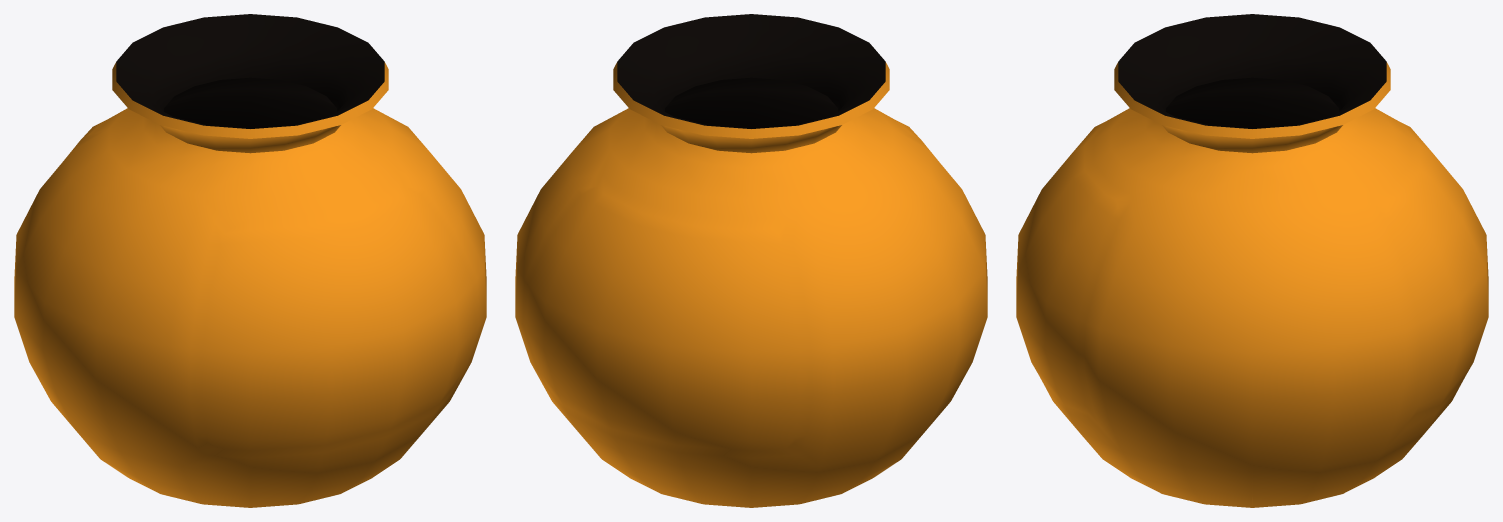
File: twoMaterialVase.fbx
The picture shows the model from 3 angles, left to right: view 1: azimuth 30°, elevation 25°; view 2: azimuth 150°, elevation 25°; view 3: azimuth 270°, elevation 25°; orthographic projection.
Visible parts, largest first — view 1: Cylinder002; view 2: Cylinder002; view 3: Cylinder002.
Part boxes in pixels (x1,y1,x2,y2): Cylinder002: [14, 14, 486, 507]; Cylinder002: [515, 14, 987, 507]; Cylinder002: [1016, 14, 1488, 507].
Size of the model in its own units: 73.07 by 63.39 by 71.96.
